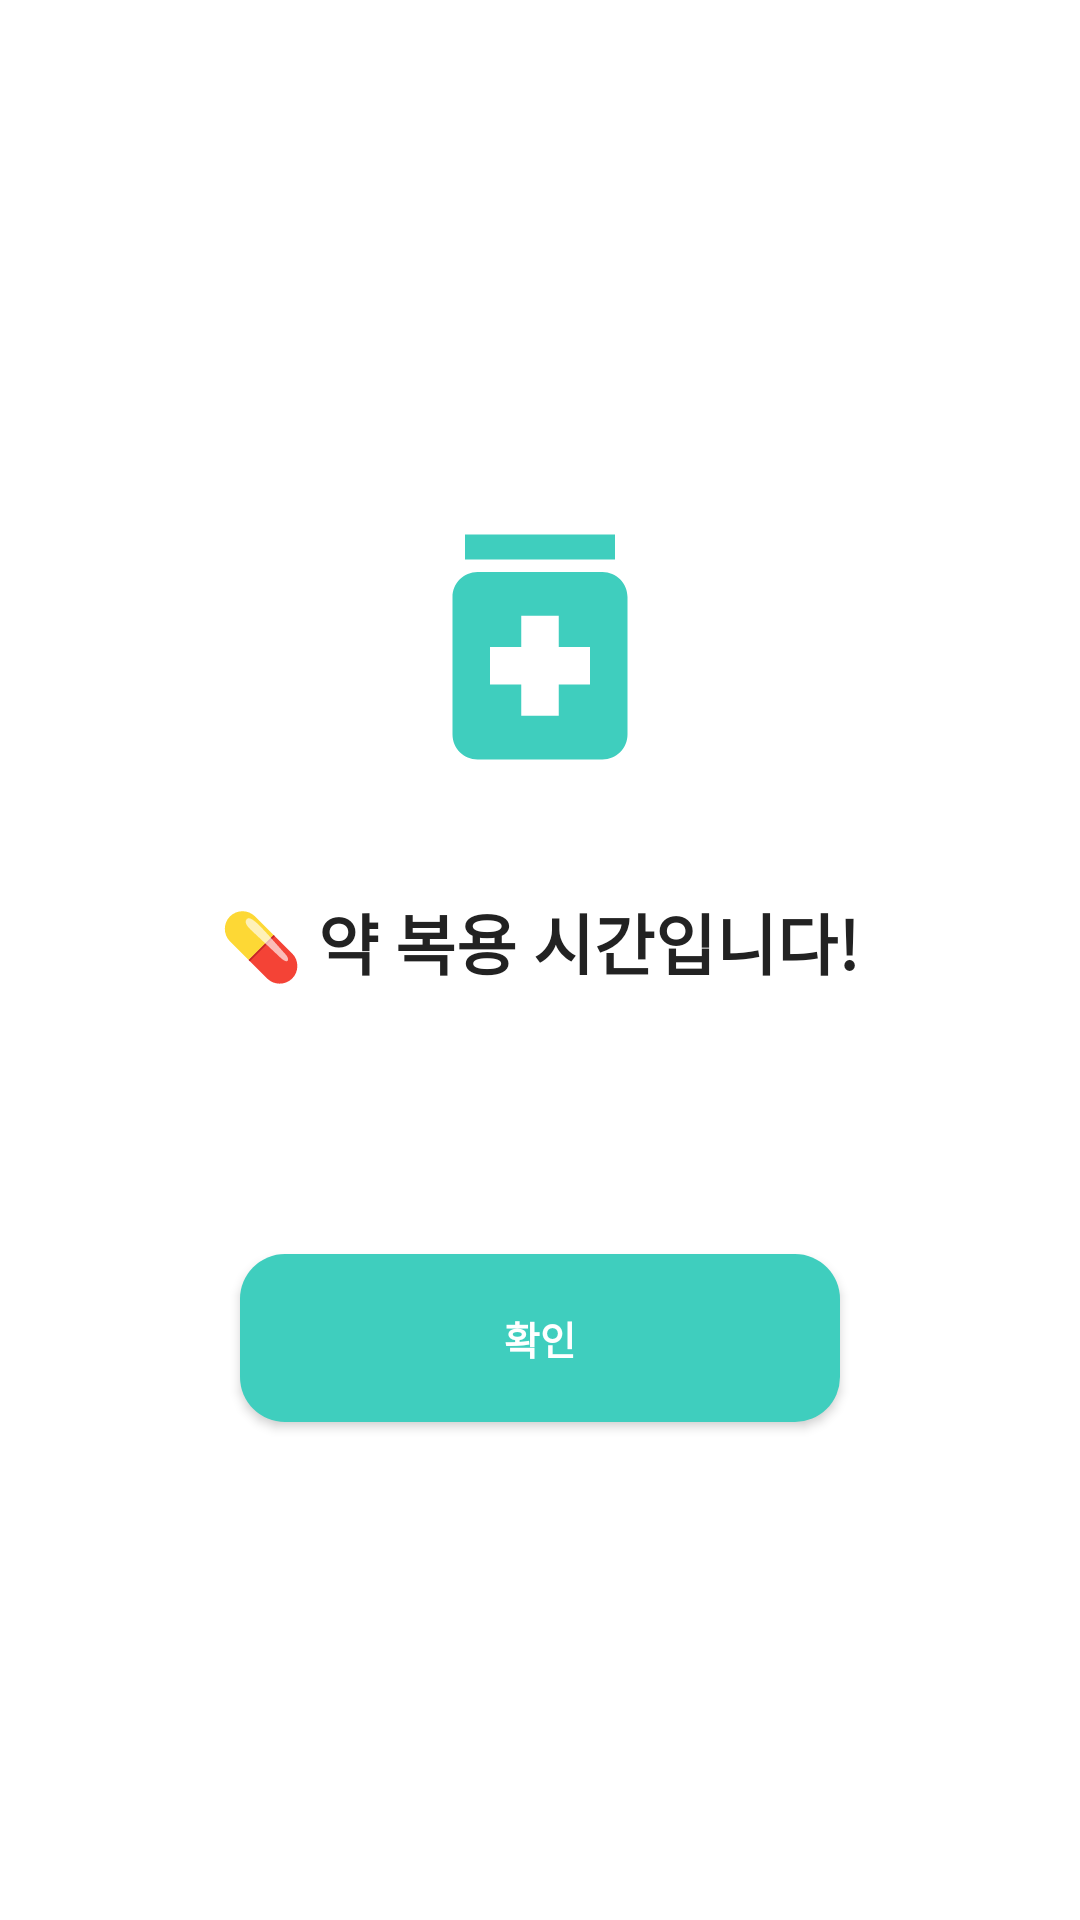

Icons on this 1080×1920 Android screen, each with its box as (x1, y1, x2, y2):
medicine: (452, 534, 628, 760)
